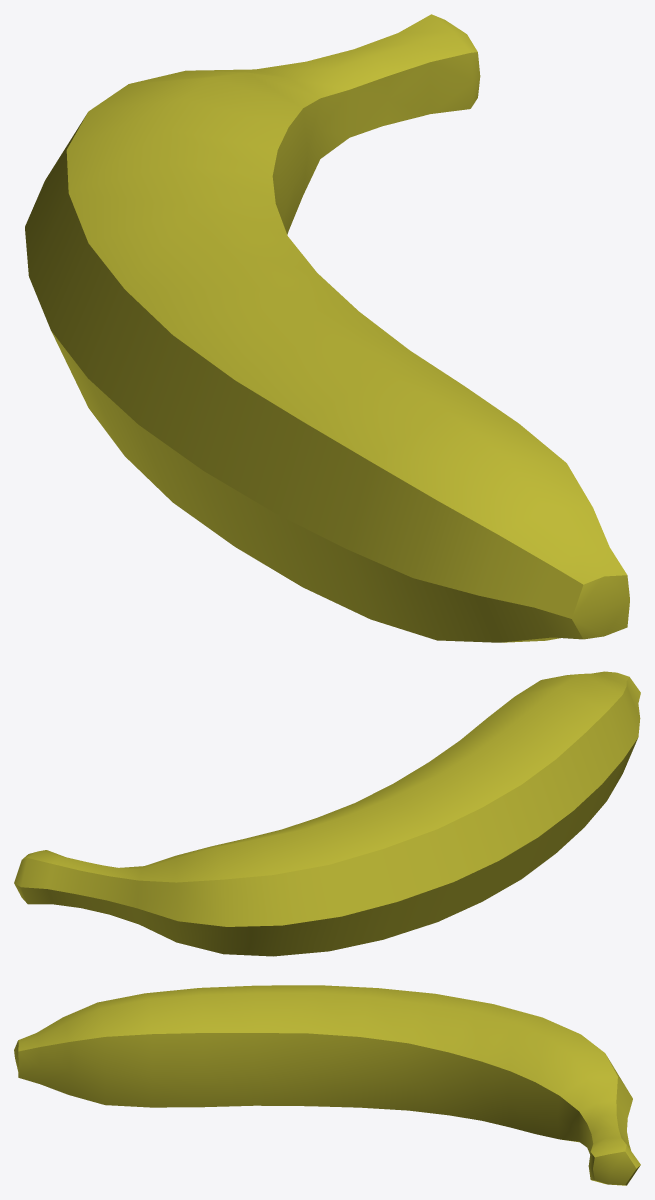
The model's file is banana.glb.
3 views of the same model, one above another, from view 1: azimuth 30°, elevation 25°; view 2: azimuth 150°, elevation 25°; view 3: azimuth 270°, elevation 25° (orthographic). The views are drawn at different scales.
Parts seen in each view (by area): view 1: banana; view 2: banana; view 3: banana.
Part boxes in pixels (x1,y1,x2,y2): banana: (25, 14, 629, 642); banana: (14, 671, 640, 956); banana: (14, 985, 640, 1185).
Size of the model in its own units: 0.1106 by 0.038 by 0.1926.
